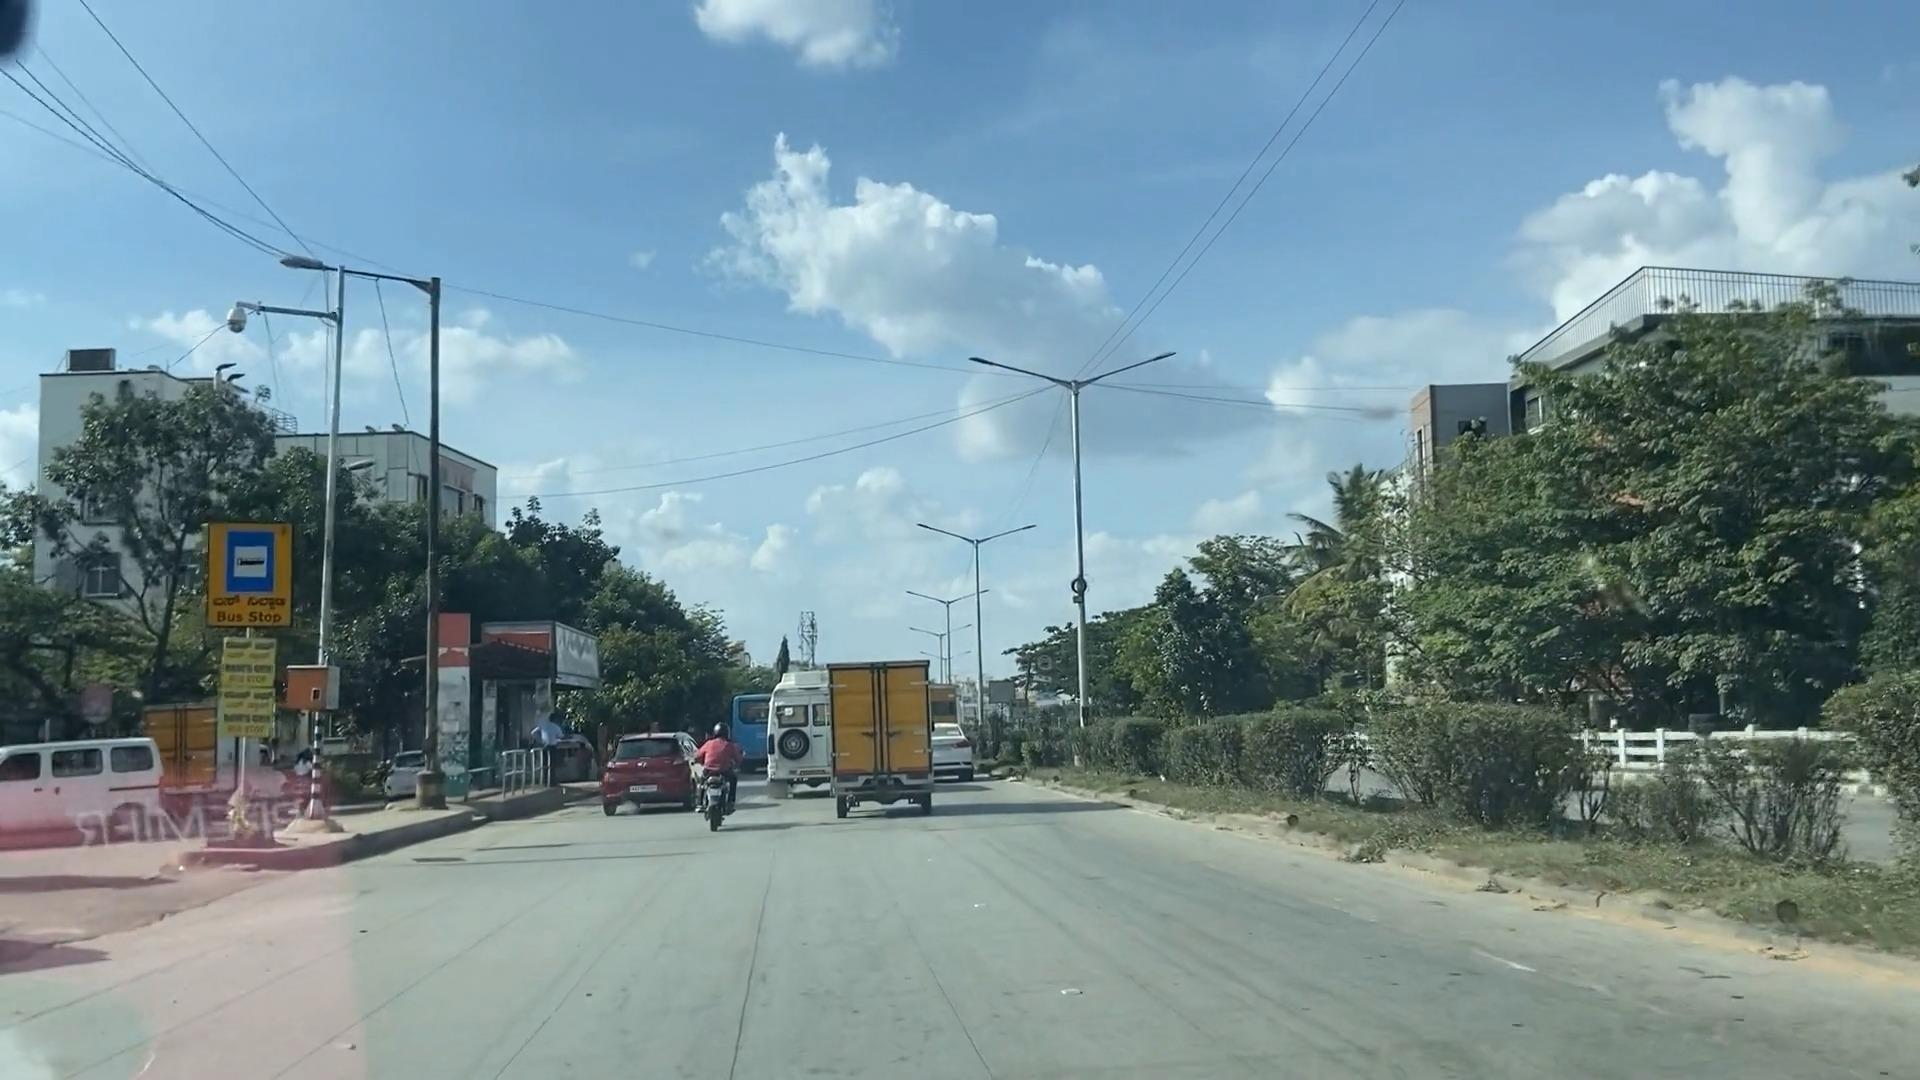HMV: (827, 646, 951, 811)
LMV: (608, 735, 699, 822), (695, 724, 746, 829)
